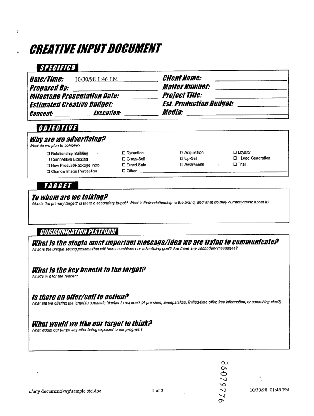checkbox: (46, 163, 50, 168), (46, 152, 50, 156), (46, 158, 50, 162), (46, 169, 50, 173), (122, 169, 126, 173), (122, 163, 126, 167), (122, 157, 126, 161), (122, 151, 126, 155), (233, 162, 237, 166), (233, 156, 237, 160), (239, 150, 243, 154), (180, 156, 183, 161), (180, 151, 183, 155), (180, 163, 183, 167)
textline: (139, 168, 287, 174), (186, 110, 288, 116), (72, 85, 158, 92), (72, 77, 158, 83), (214, 76, 287, 82), (214, 85, 287, 91), (214, 93, 287, 99), (236, 101, 286, 107), (121, 94, 158, 100), (54, 111, 90, 117), (123, 111, 158, 117)
